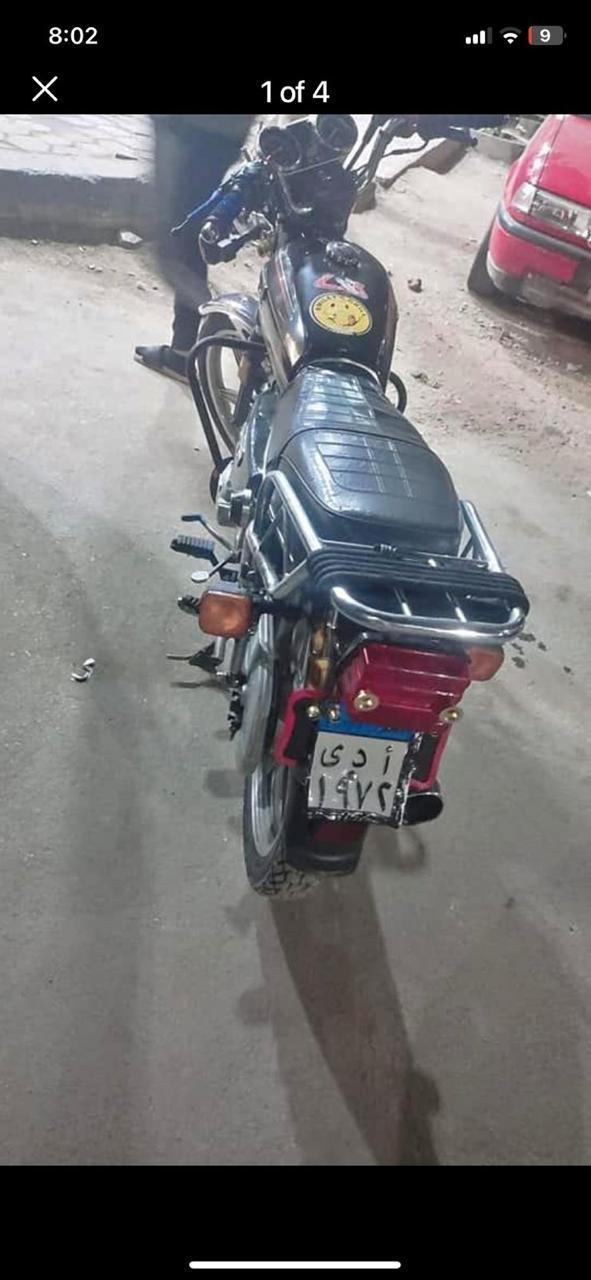License Plate: (319, 709, 411, 831)
